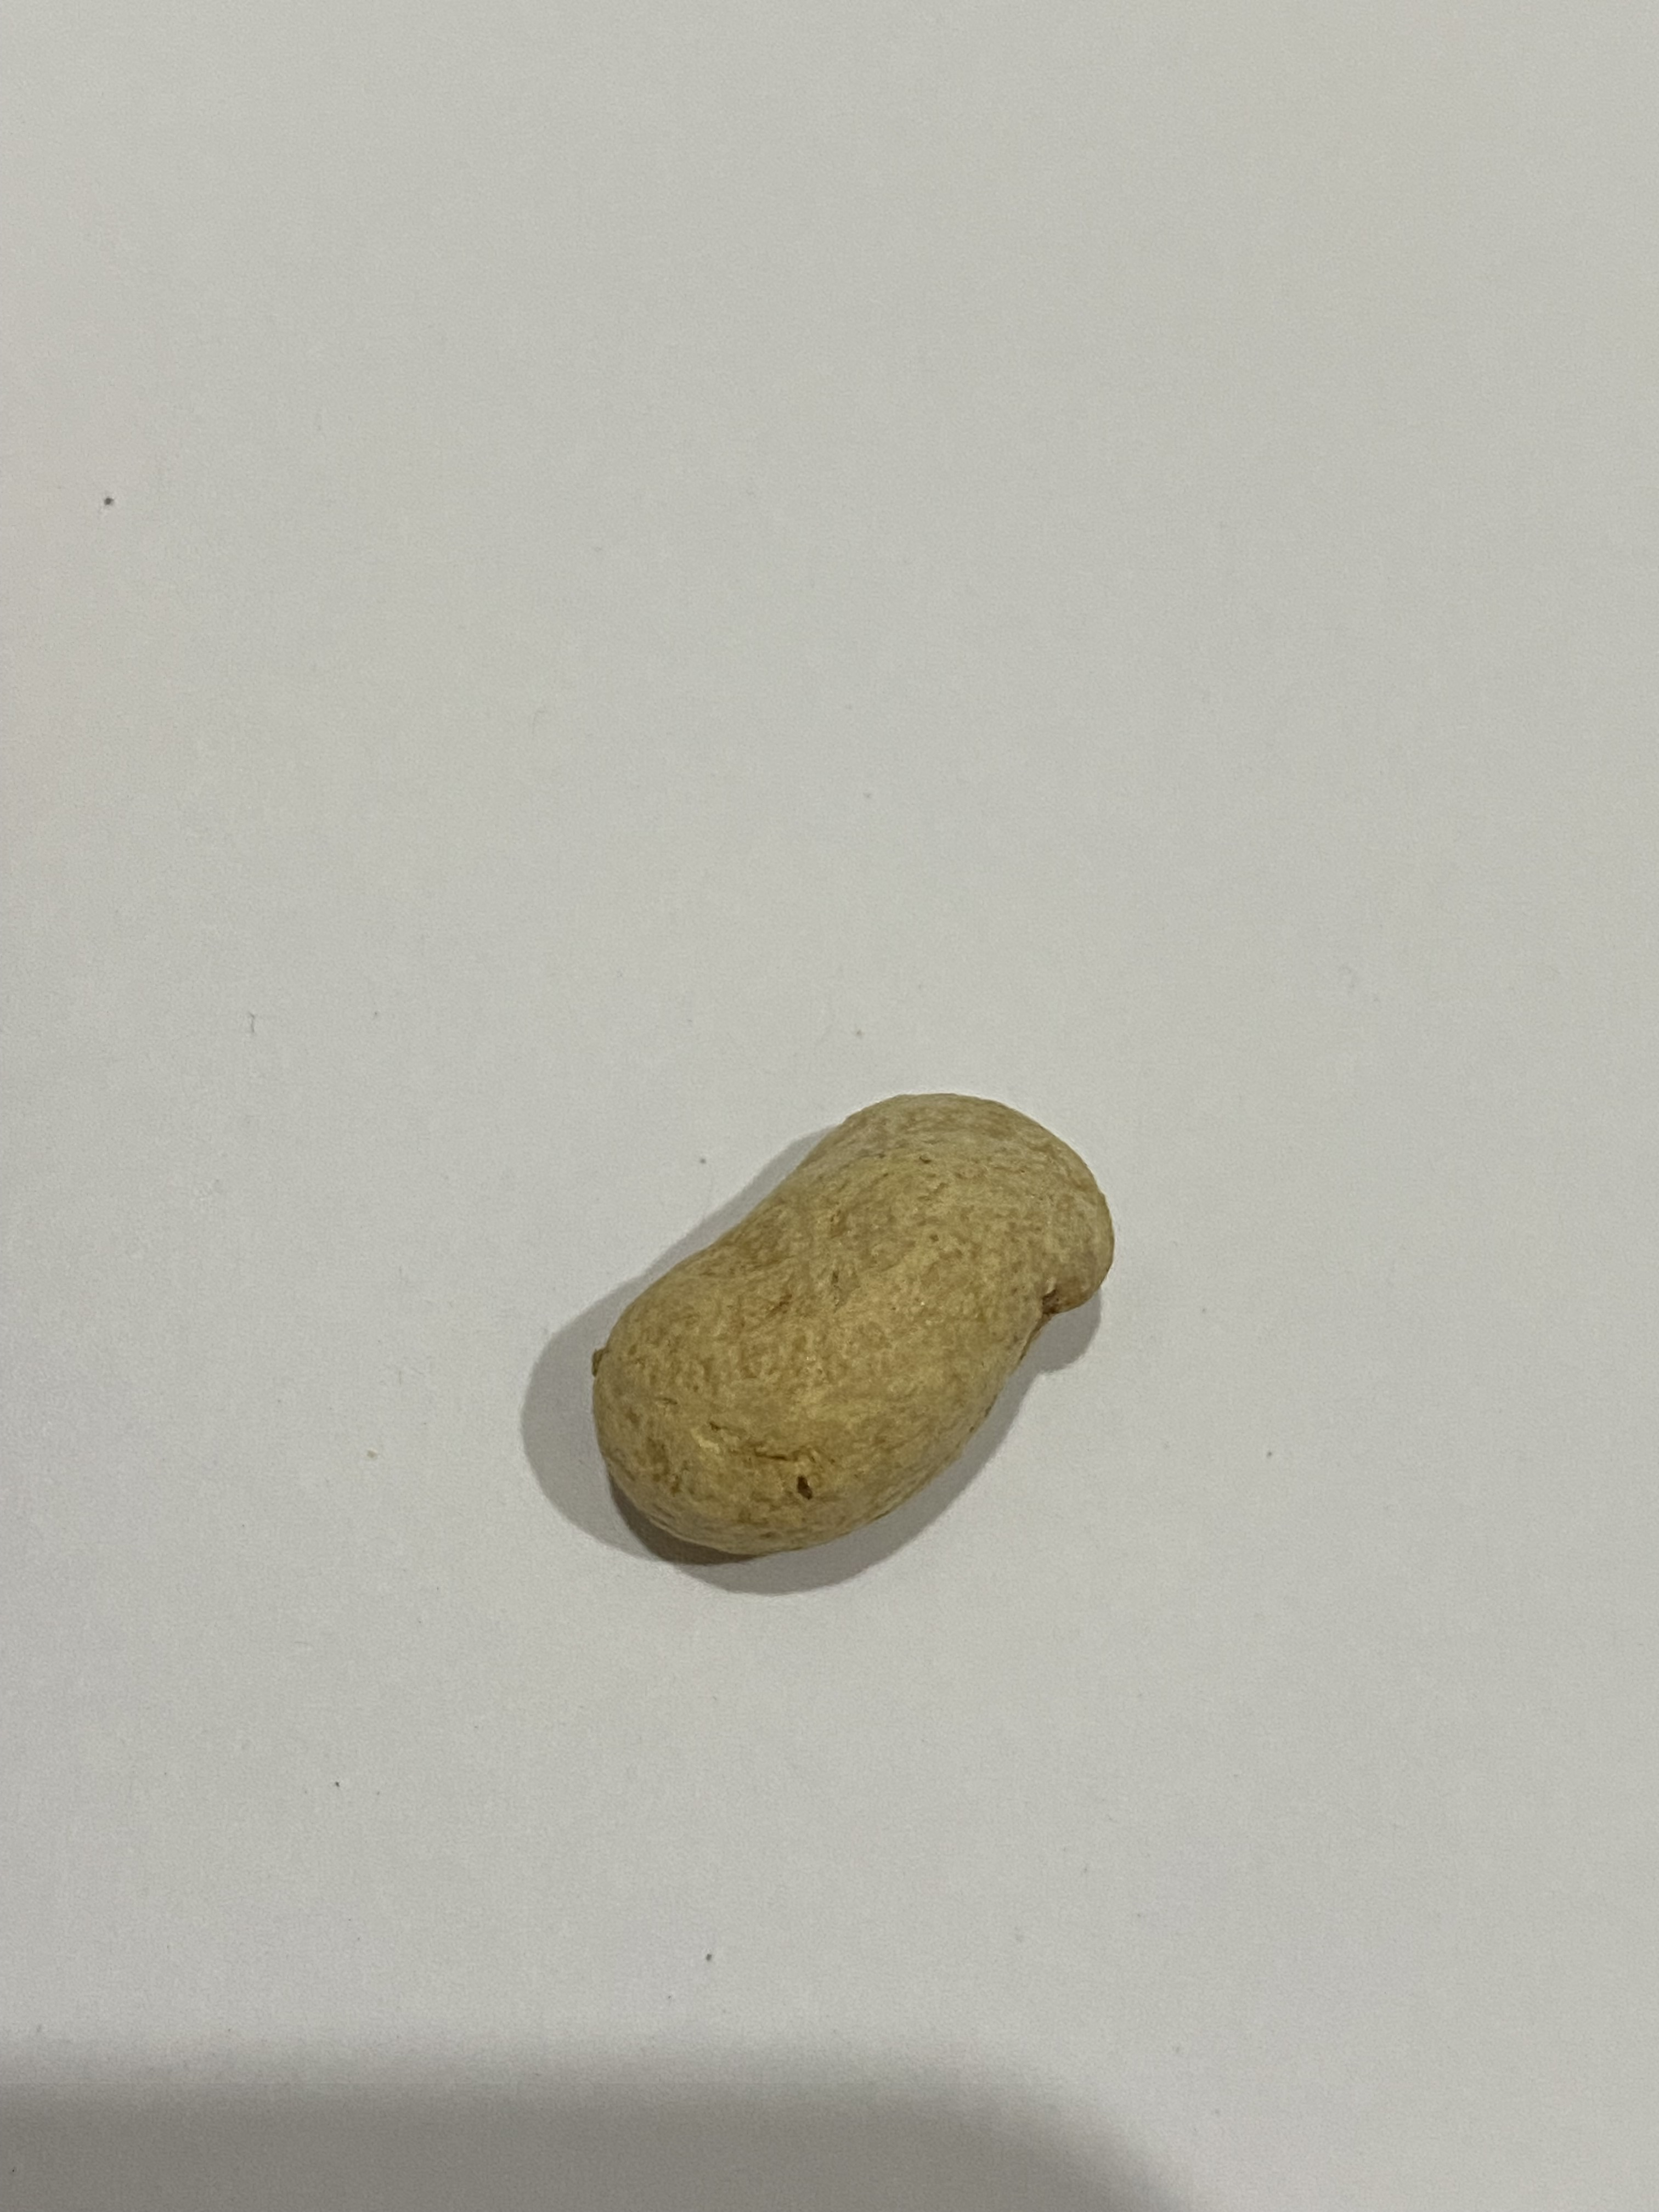kacang1: (528, 1071, 1119, 1562)
